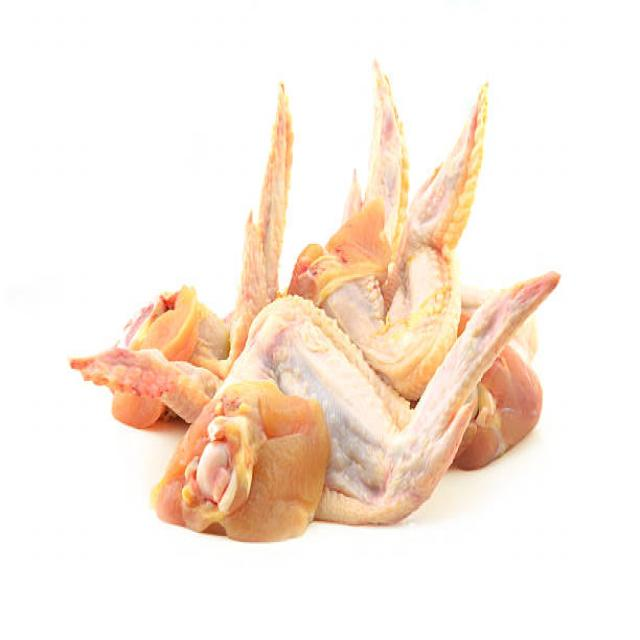Chicken: (177, 289, 566, 545)
